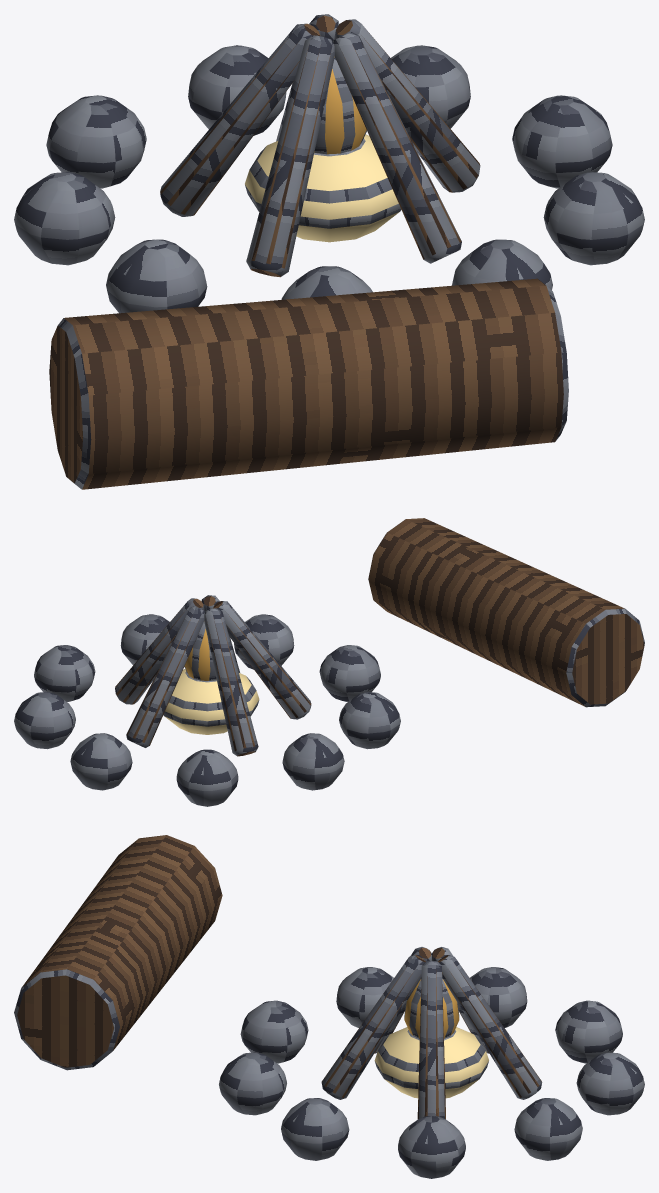
Rendered from spec_campfire_2.glb.
3 views of the same model, one above another, from view 1: azimuth 30°, elevation 25°; view 2: azimuth 150°, elevation 25°; view 3: azimuth 270°, elevation 25° (orthographic). The views are drawn at different scales.
Parts seen in each view (by area): view 1: spec_campfire_2; view 2: spec_campfire_2; view 3: spec_campfire_2.
Boxes of the visible parts, box(x1,y1,x2,y2) form: spec_campfire_2: box(14, 14, 644, 489); spec_campfire_2: box(14, 518, 644, 806); spec_campfire_2: box(14, 835, 644, 1178).
Size of the model in its own units: 2.01 by 0.5346 by 2.15.
4 materials, 4 textured.
